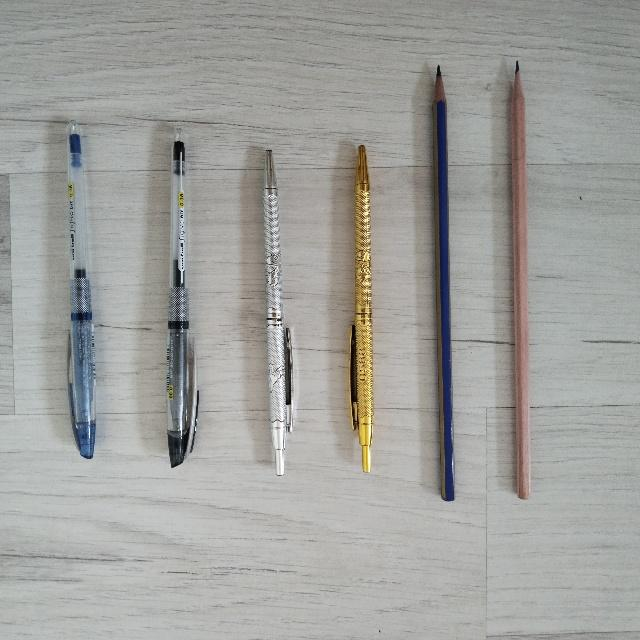pen: (166, 130, 198, 466), (68, 121, 95, 458)
pencil: (433, 66, 453, 500), (511, 62, 530, 498)
signature pen: (263, 150, 292, 475), (349, 145, 372, 471)
